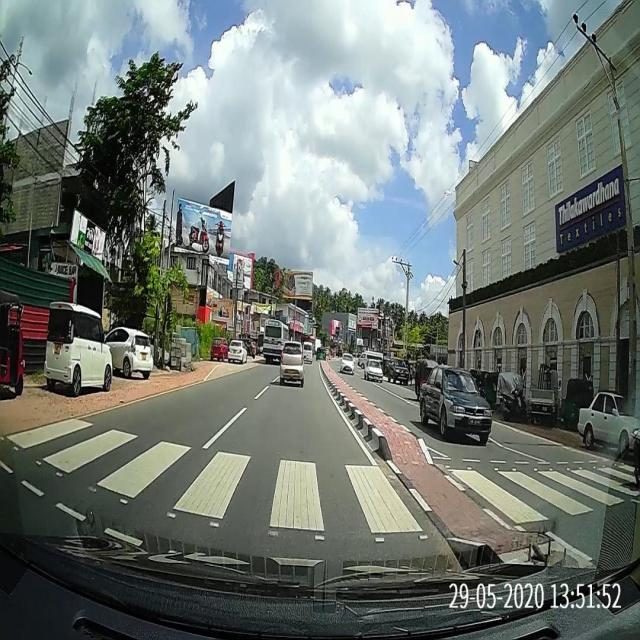Crosswalk: (1, 416, 639, 545)
